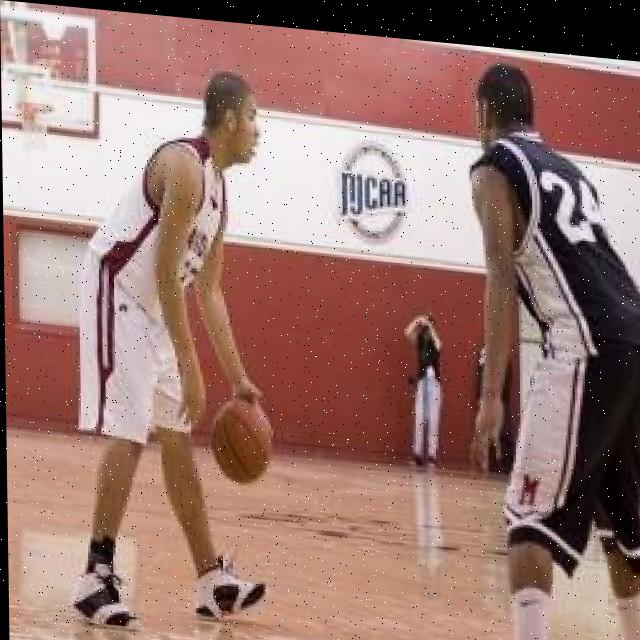basketball: (211, 396, 277, 490)
hoop: (14, 98, 57, 157)
